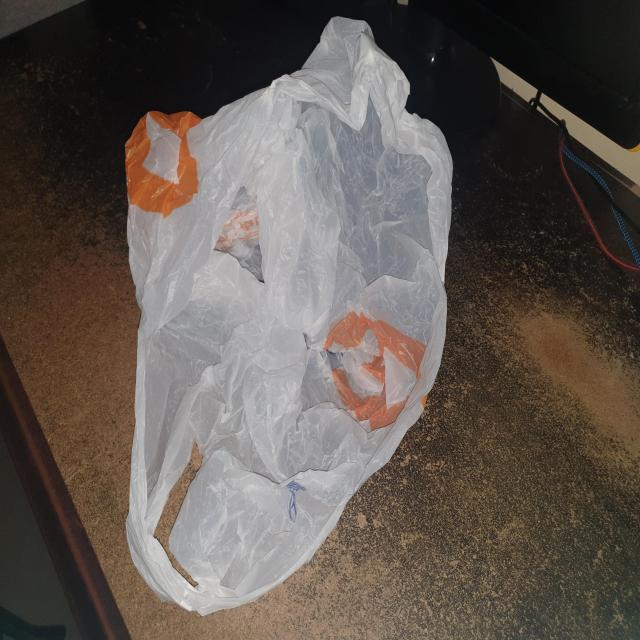plastic bag: (111, 3, 468, 626)
